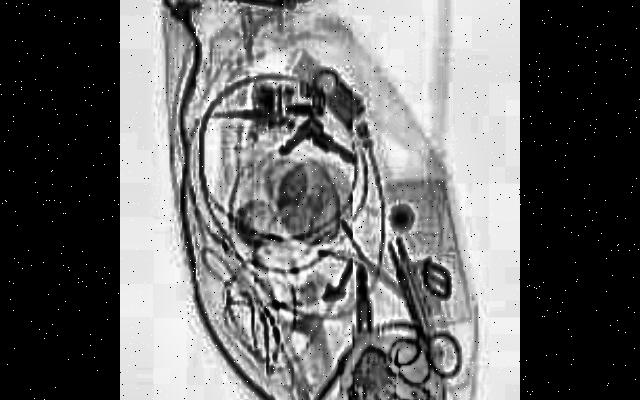Scissors: (366, 213, 462, 400)
